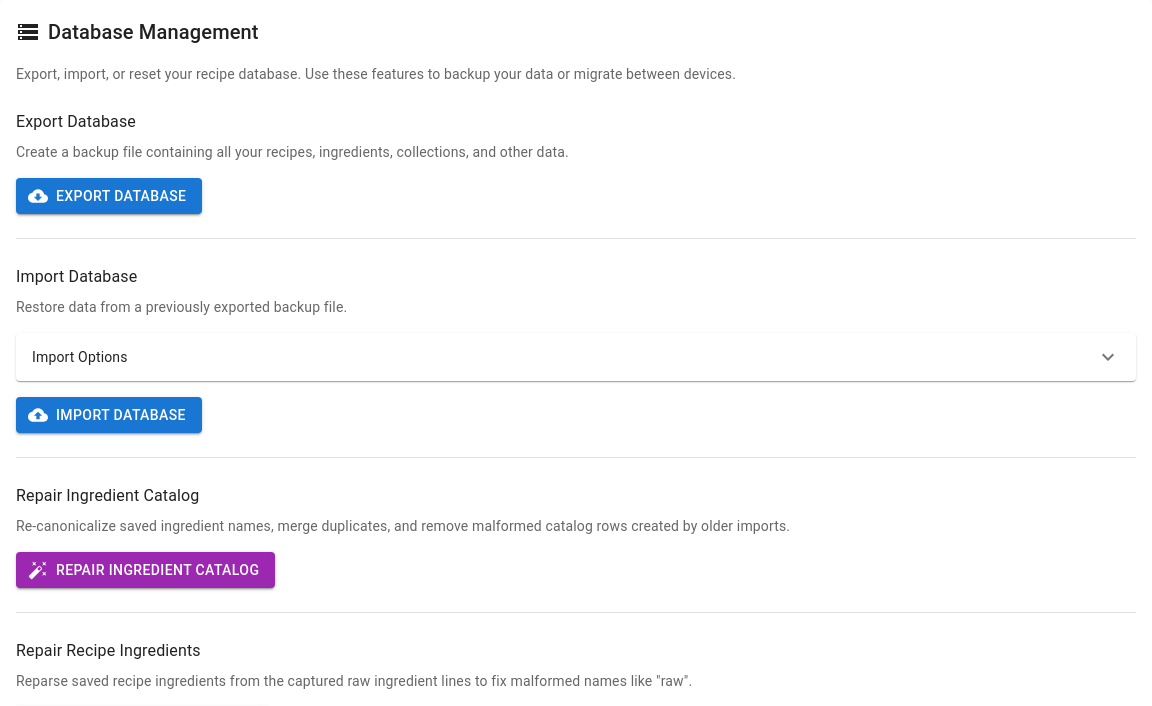
Test case: DatabaseManagementSection › handles export database error
Click the button with test id "dbManagement-button-export" at (109, 196), box [16,178,202,214]
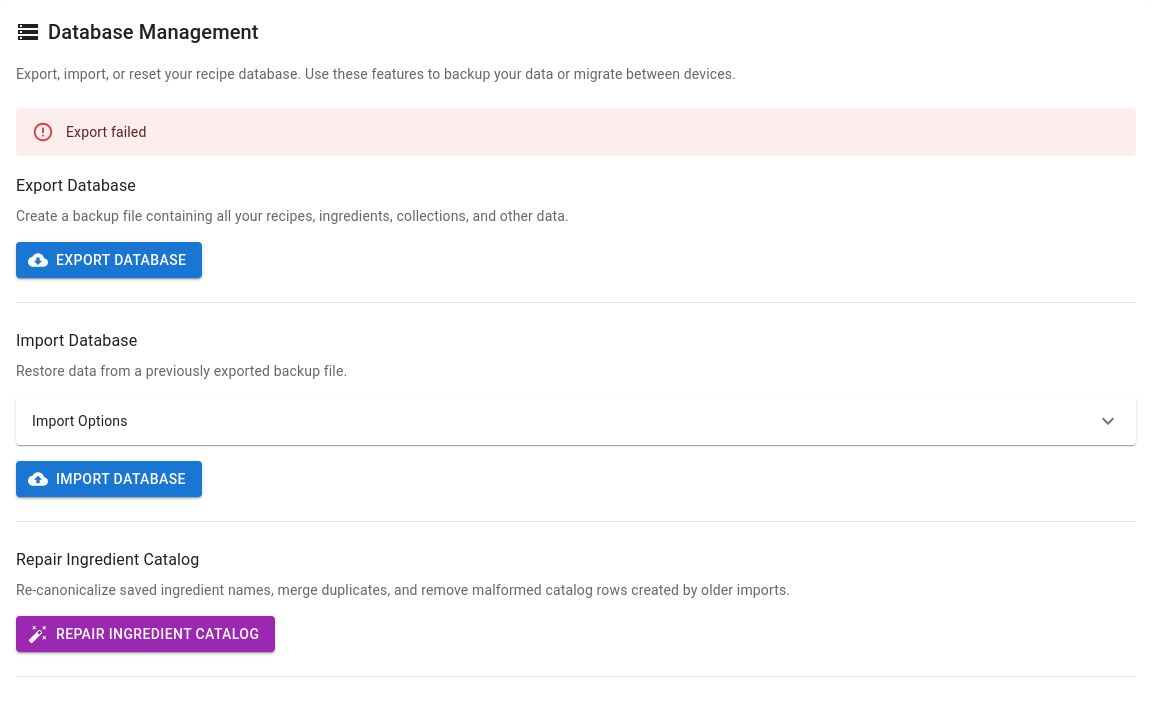
Expected: the message "Export failed" is shown, [16,108,1136,156]
Expected: the text "Export failed" is shown, [66,124,146,140]
